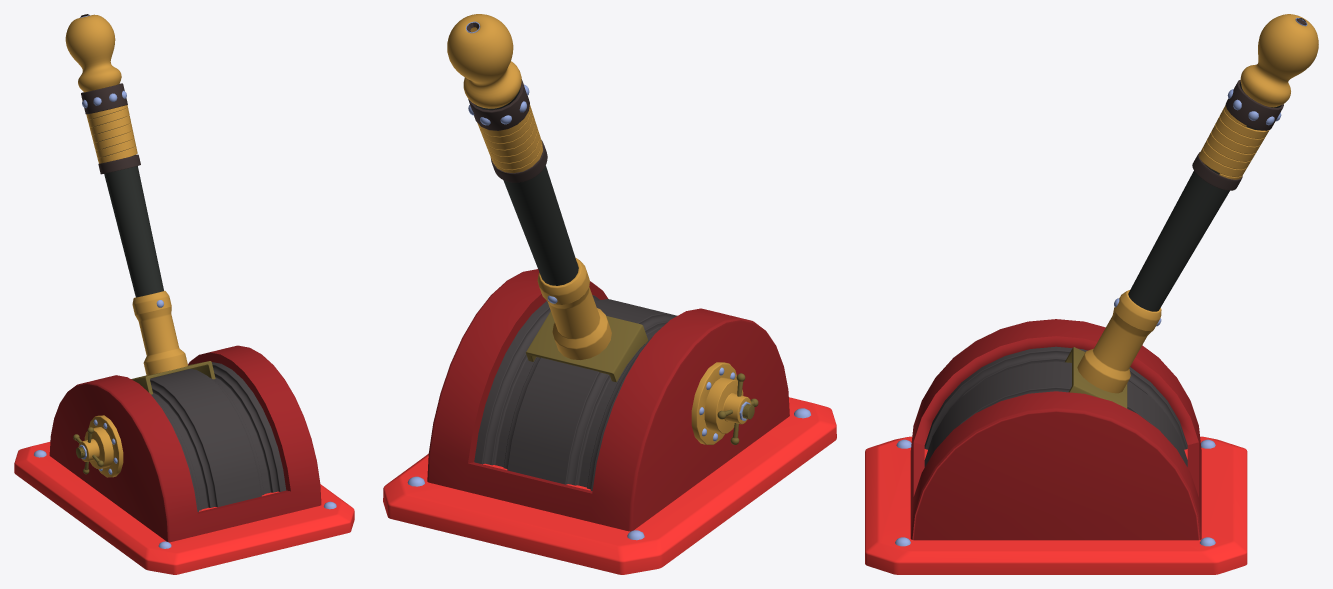
Rendered from LeverPush.fbx.
3 renders of one model, left to right at view 1: azimuth 30°, elevation 25°; view 2: azimuth 150°, elevation 25°; view 3: azimuth 270°, elevation 25°, orthographic. The views are drawn at different scales.
Parts seen in each view (by area): view 1: Plane, Handle, Lever; view 2: Plane, Handle, Lever; view 3: Plane, Handle.
Boxes of the visible parts, box(x1,y1,x2,y2) form: Plane: box(14, 345, 354, 574); Handle: box(65, 14, 215, 394); Lever: box(73, 415, 123, 477); Plane: box(383, 269, 836, 574); Handle: box(447, 14, 648, 382); Lever: box(691, 362, 758, 444); Plane: box(865, 319, 1247, 574); Handle: box(1065, 14, 1318, 408).
Bounding box in the file's own units: 1.51 × 2.82 × 2.33.
